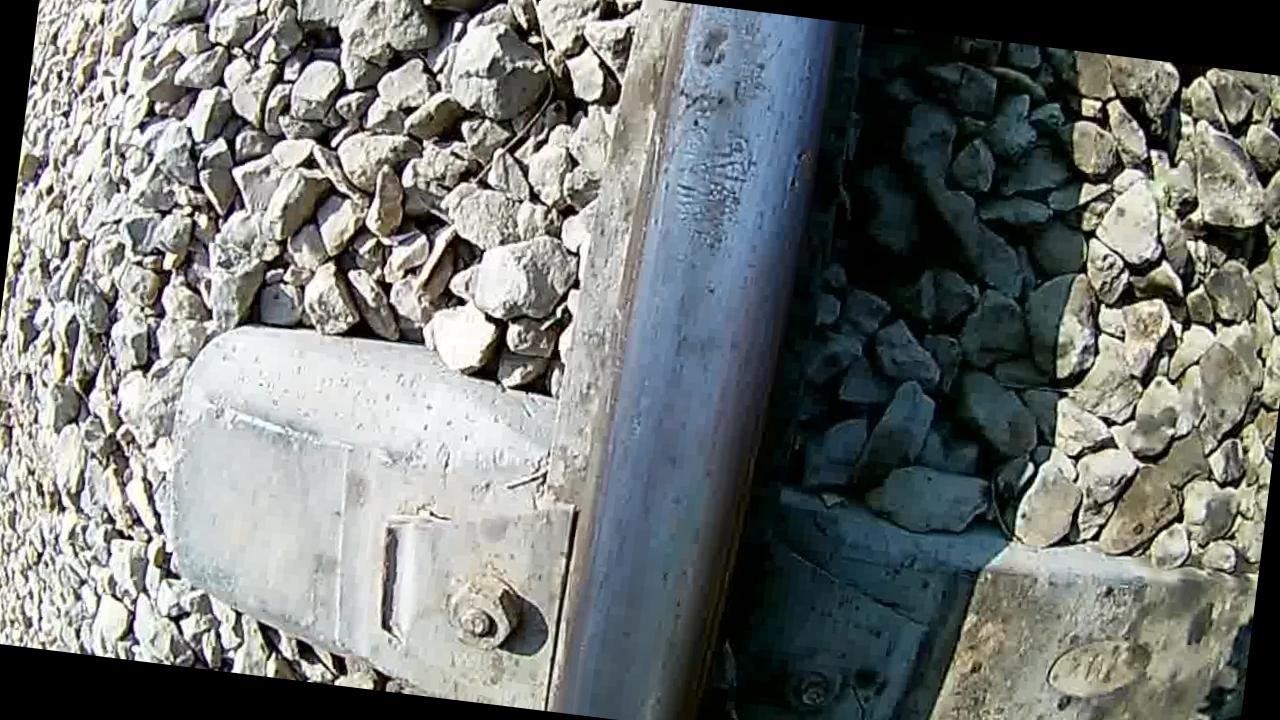crack: (554, 0, 837, 720)
